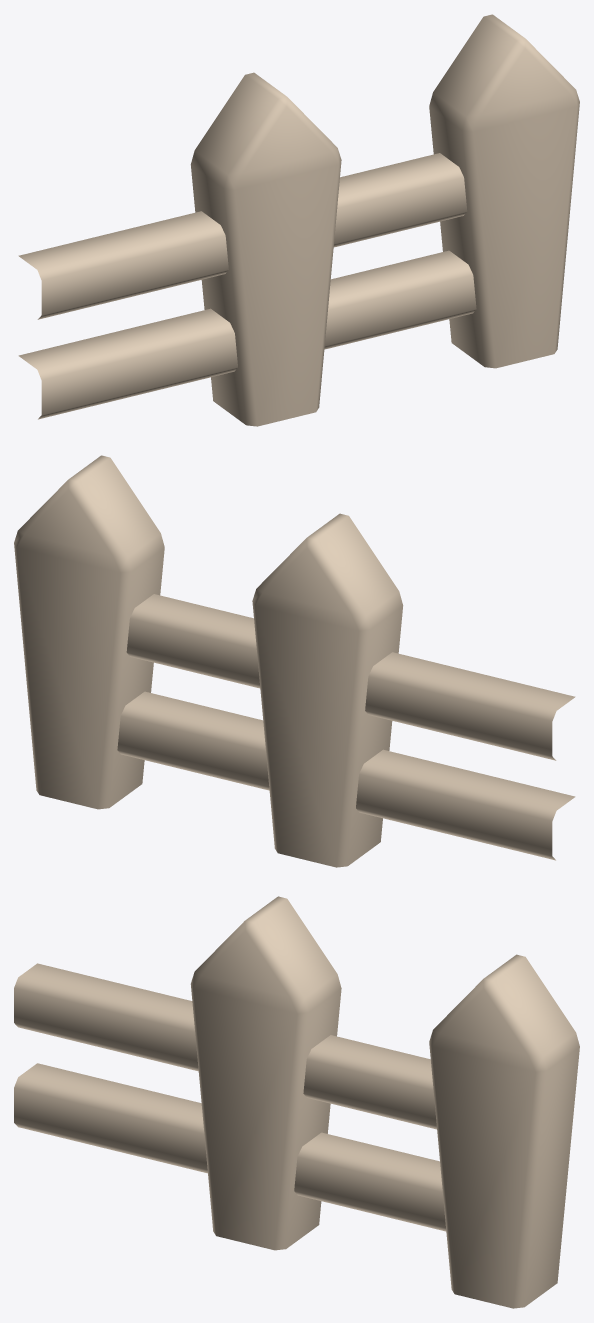
File: fence_open_long.glb
The picture shows the model from 3 angles, top to bottom: view 1: azimuth 30°, elevation 25°; view 2: azimuth 150°, elevation 25°; view 3: azimuth 330°, elevation 25°; orthographic projection.
Parts seen in each view (by area): view 1: fence_open_long; view 2: fence_open_long; view 3: fence_open_long.
Part boxes in pixels (x1,y1,x2,y2): fence_open_long: (18,14,579,426); fence_open_long: (14,455,575,867); fence_open_long: (14,896,579,1308).
Bounding box in the file's own units: 2.25 × 1.28 × 0.3.
